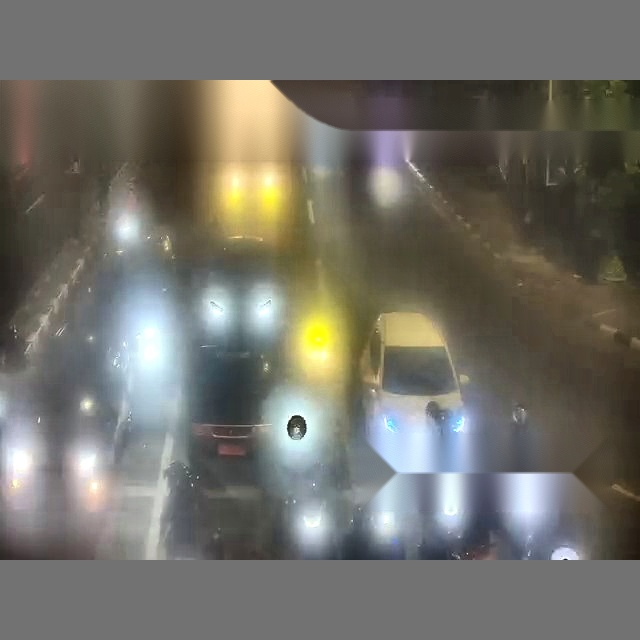Mobil: (362, 312, 470, 552)
